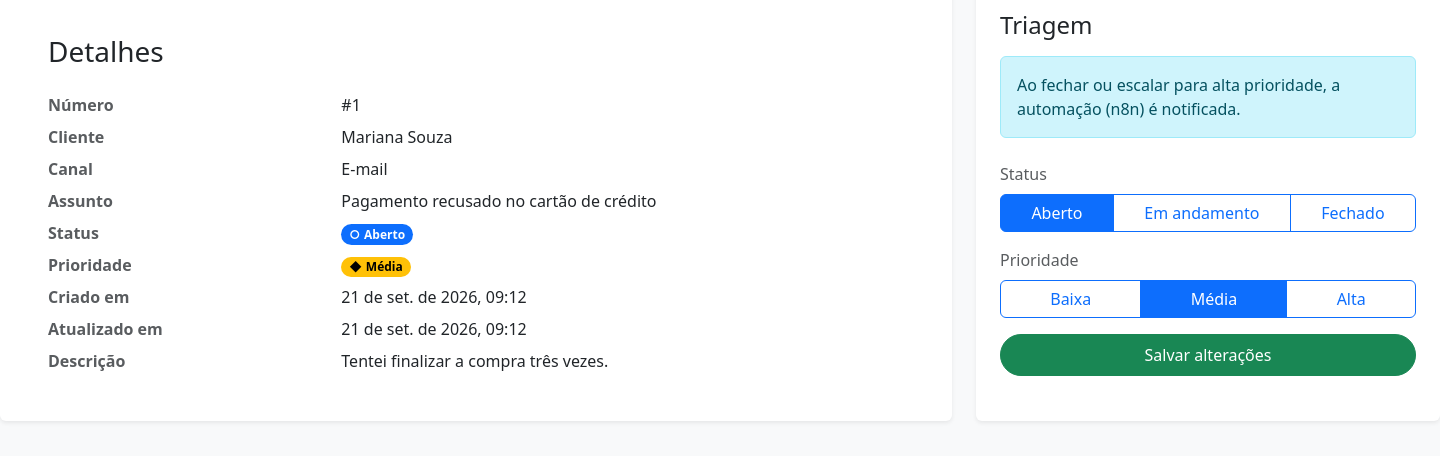
Test: TicketDetail › sends only the changed fields and shows the server-confirmed state
Click the button "Fechado" at (1353, 213), box [1290, 194, 1416, 232]
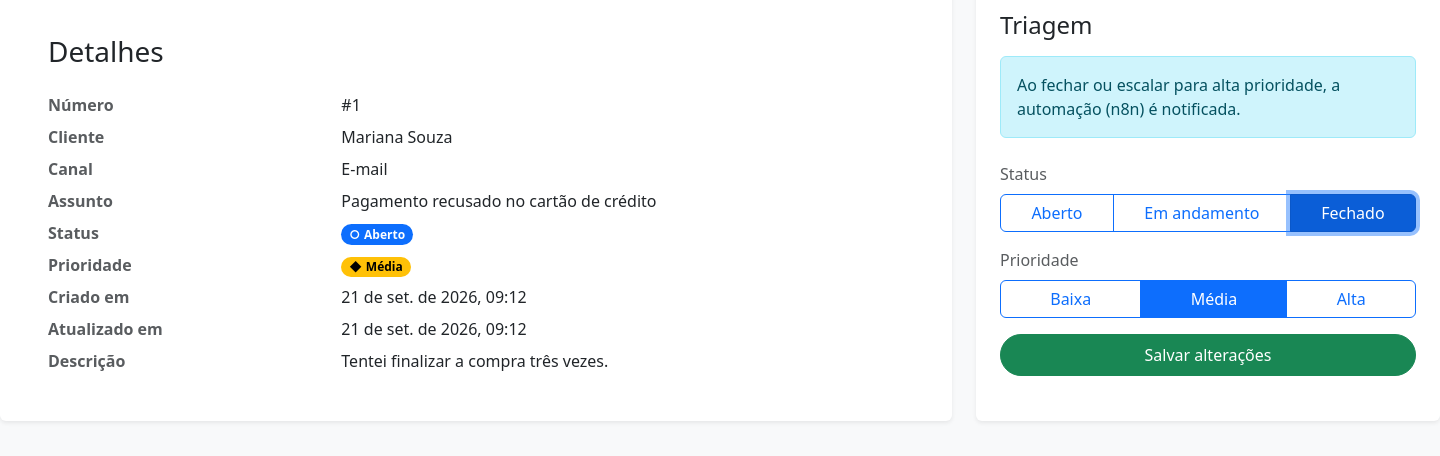
Click the button "Salvar alterações" at (1208, 355), box [1000, 334, 1416, 376]
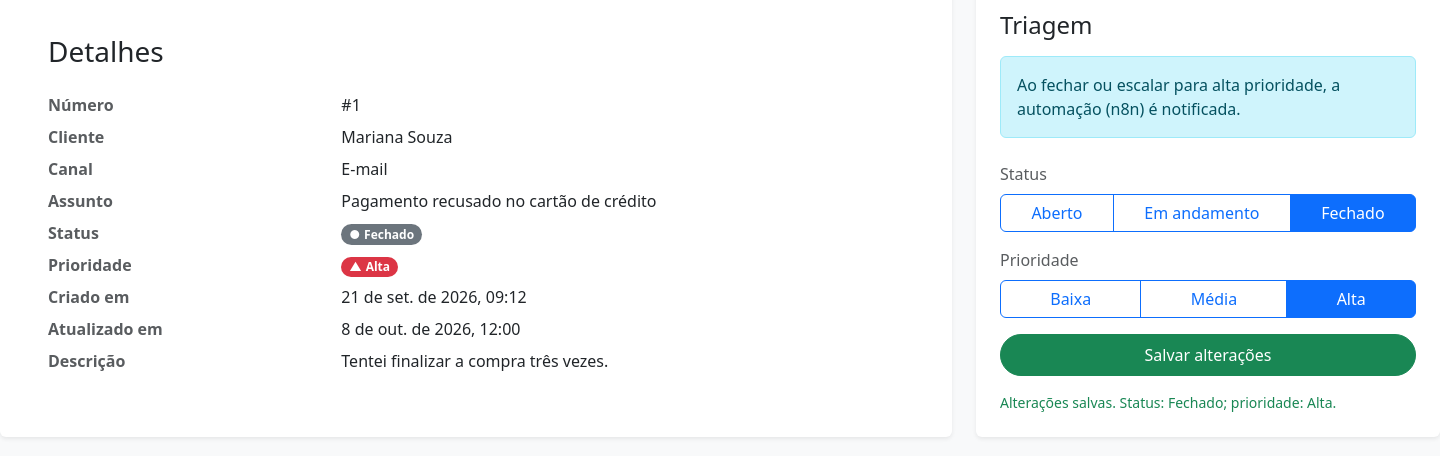
Expected: the text "Alterações salvas. Status: Fechado; prioridade: Alta." is shown, [1000, 393, 1336, 412]
Expected: the element with test id "current-status" shows "Fechado", [364, 226, 414, 243]
Expected: the element with test id "current-priority" shows "Alta", [366, 258, 390, 275]
